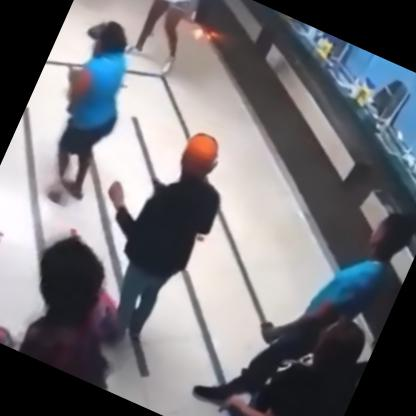Human Body: (174, 148, 415, 415), (48, 104, 256, 366), (15, 10, 159, 216), (0, 220, 170, 394), (201, 278, 382, 415), (95, 0, 217, 80)
